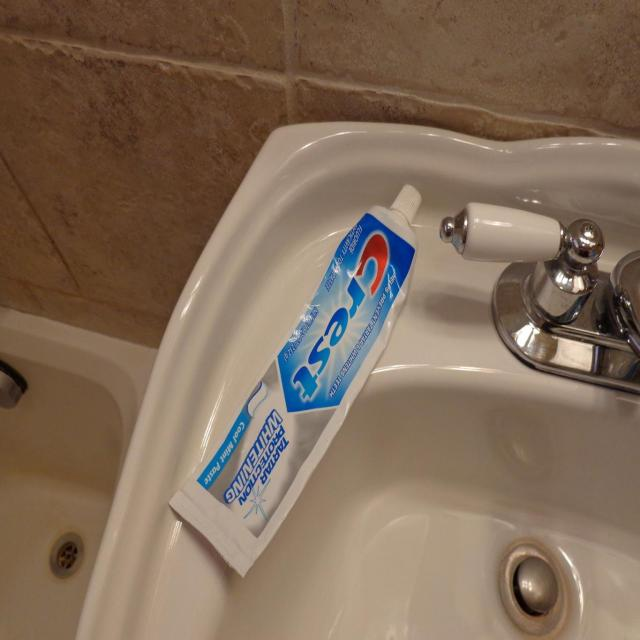Toothpaste: (172, 177, 424, 582)
